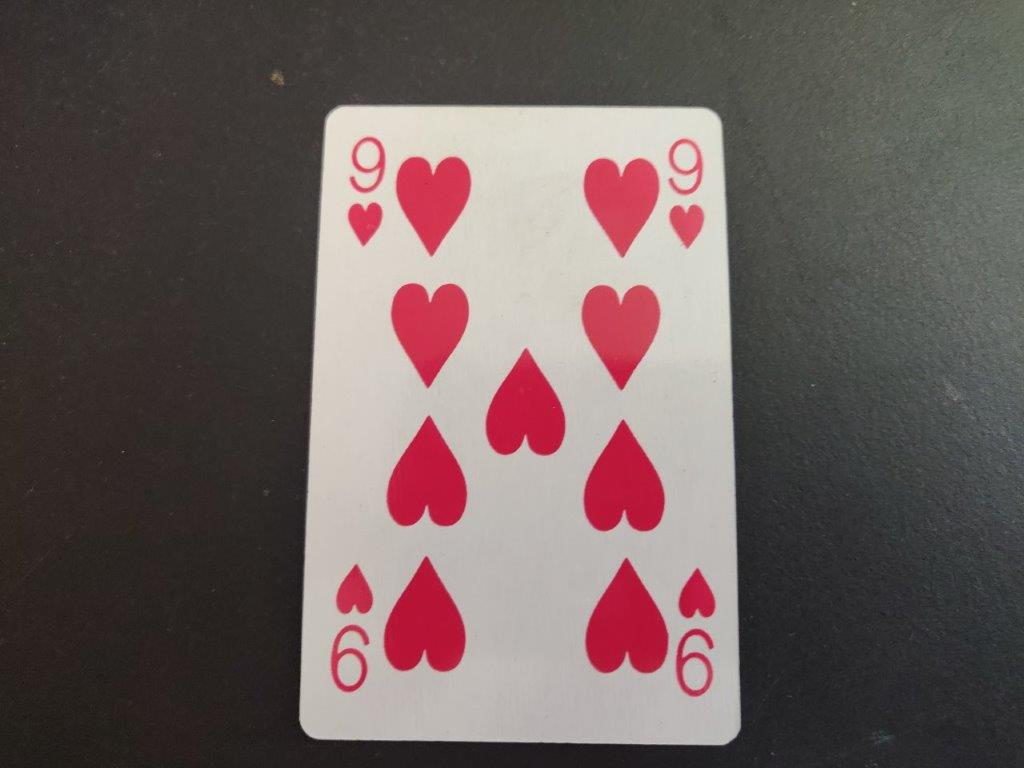9H: (342, 132, 389, 254), (665, 134, 708, 253)
